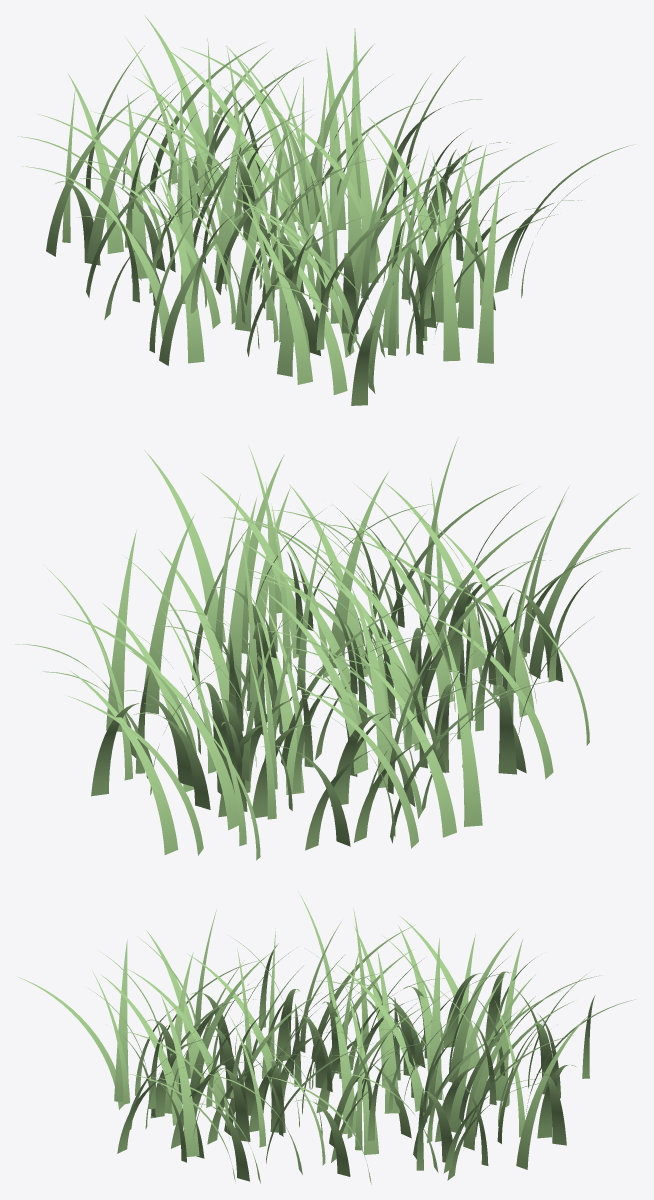
Rendered from grass-only.fbx.
3 views of the same model, one above another, from view 1: azimuth 30°, elevation 25°; view 2: azimuth 150°, elevation 25°; view 3: azimuth 270°, elevation 25° (orthographic). The views are drawn at different scales.
Parts seen in each view (by area): view 1: grass_only; view 2: grass_only; view 3: grass_only.
Part boxes in pixels (box(x1,y1,x2,y2)): grass_only: box(17, 15, 633, 405); grass_only: box(15, 437, 637, 860); grass_only: box(18, 891, 635, 1184).
Bounding box in the file's own units: 126 × 47.76 × 162.
